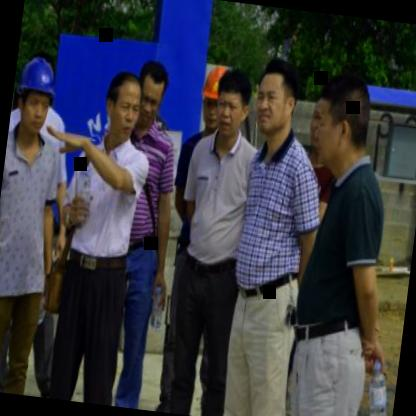head: (304, 66, 377, 178), (251, 57, 305, 144), (207, 60, 256, 147), (98, 64, 147, 142), (130, 49, 174, 129)
helmet: (10, 49, 63, 135), (196, 66, 232, 138)
